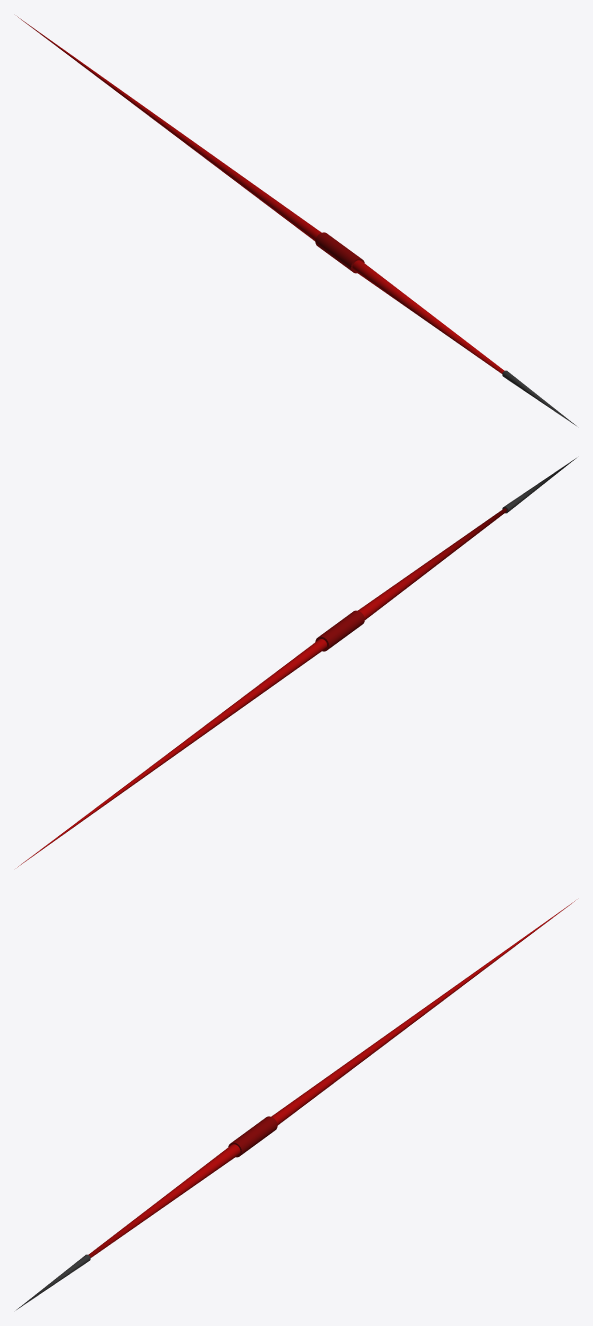
File: javelin2.fbx
3 views of the same model, one above another, from view 1: azimuth 30°, elevation 25°; view 2: azimuth 150°, elevation 25°; view 3: azimuth 330°, elevation 25° (orthographic).
Visible parts, largest first — view 1: pCone2, pCone1, pCylinder1; view 2: pCone2, pCone1, pCylinder1; view 3: pCone2, pCone1, pCylinder1.
Boxes of the visible parts, <box> form: pCone2: <box>17,16,321,241</box>; pCone1: <box>352,260,504,373</box>; pCylinder1: <box>315,232,364,273</box>; pCone2: <box>17,639,326,867</box>; pCone1: <box>358,508,506,619</box>; pCylinder1: <box>315,610,364,651</box>; pCone2: <box>271,900,575,1125</box>; pCone1: <box>88,1144,240,1257</box>; pCylinder1: <box>228,1116,277,1157</box>.
Size of the model in its own units: 36 by 36 by 2531.
